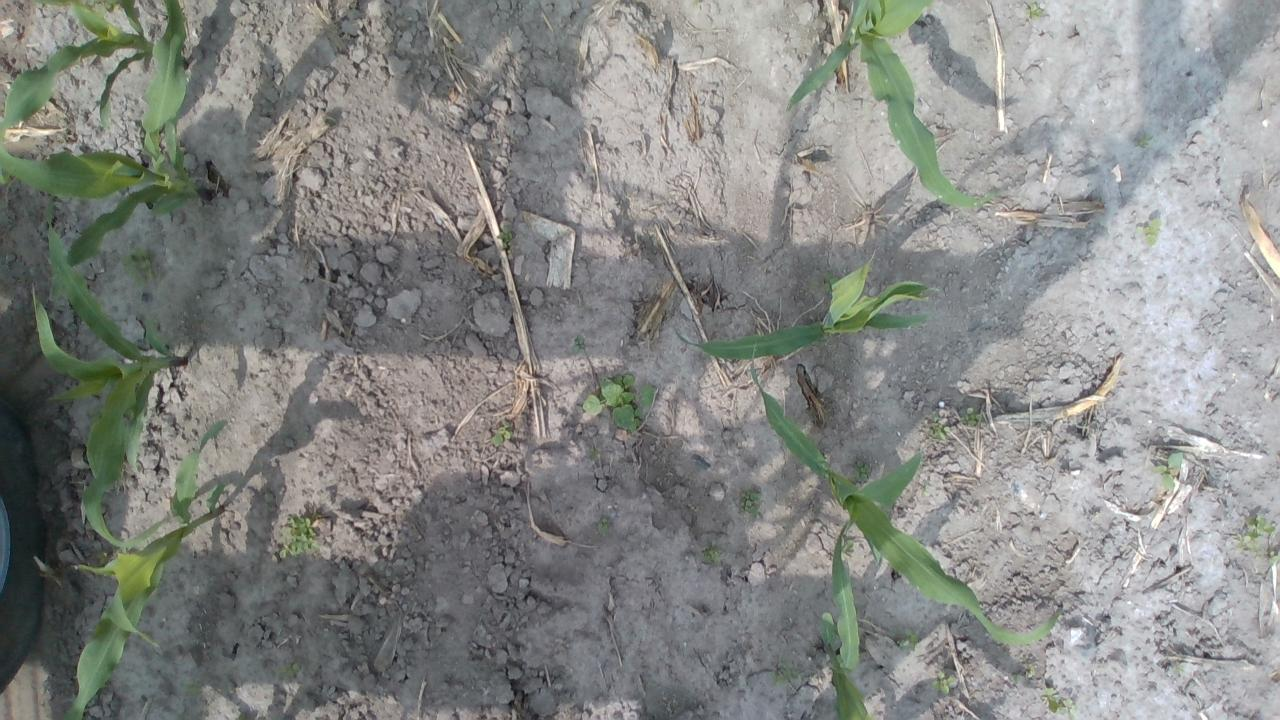Maize: (748, 340, 1066, 650), (0, 0, 215, 299), (30, 419, 241, 720), (28, 198, 192, 550), (784, 0, 1003, 213), (671, 248, 938, 364), (1, 0, 192, 137), (816, 494, 889, 720)
Weeds: (582, 374, 658, 430), (279, 515, 318, 560), (120, 245, 158, 287), (1150, 452, 1183, 491), (1040, 688, 1077, 718), (1244, 513, 1276, 542), (1136, 217, 1164, 247), (736, 489, 764, 518), (923, 412, 951, 441), (930, 671, 959, 695), (772, 661, 799, 683), (491, 421, 512, 448), (958, 406, 982, 428), (496, 225, 516, 250), (901, 627, 920, 653), (568, 334, 588, 358), (1012, 663, 1036, 683), (699, 546, 721, 566), (853, 460, 872, 482), (280, 657, 300, 677), (1023, 1, 1044, 20), (1234, 534, 1256, 552), (821, 274, 840, 292), (596, 517, 612, 538), (1135, 133, 1153, 148), (1266, 548, 1280, 566)
